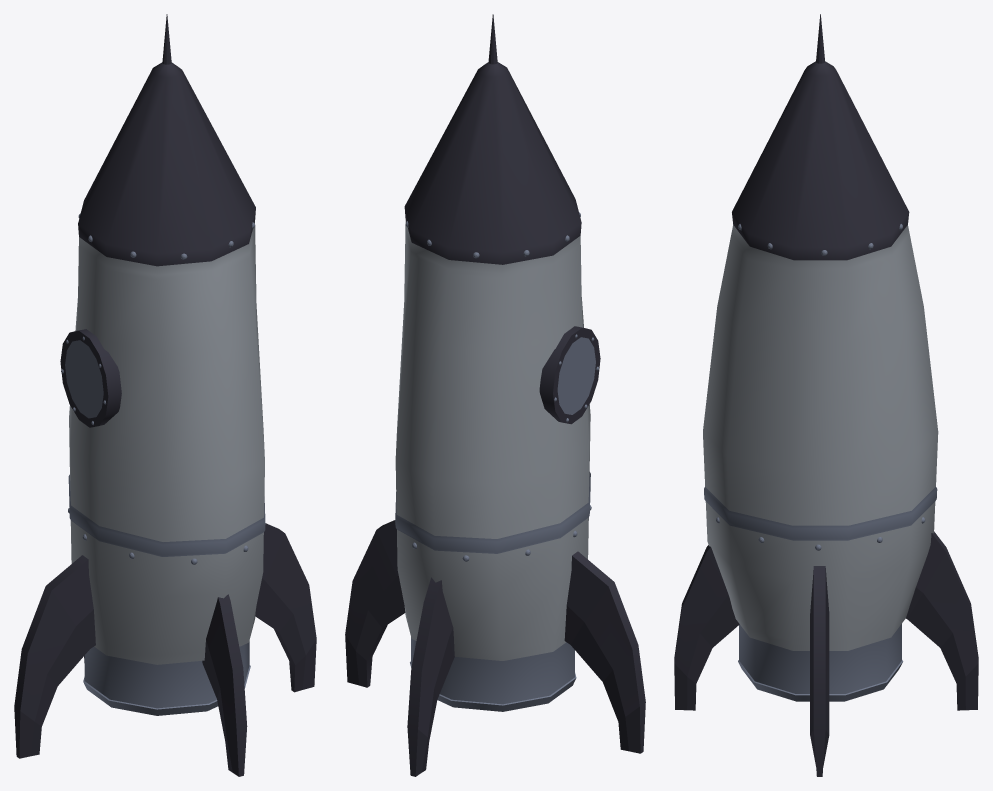
The model's file is Rocket LandingAnimation.fbx.
3 views of the same model, side by side, from view 1: azimuth 30°, elevation 25°; view 2: azimuth 150°, elevation 25°; view 3: azimuth 270°, elevation 25° (orthographic).
Visible parts, largest first — view 1: Rocket; view 2: Rocket; view 3: Rocket.
Part boxes in pixels (x1,y1,x2,y2): Rocket: (14, 14, 316, 776); Rocket: (345, 14, 645, 776); Rocket: (674, 14, 978, 776).
Bounding box in the file's own units: 26.83 × 61.31 × 24.33.
